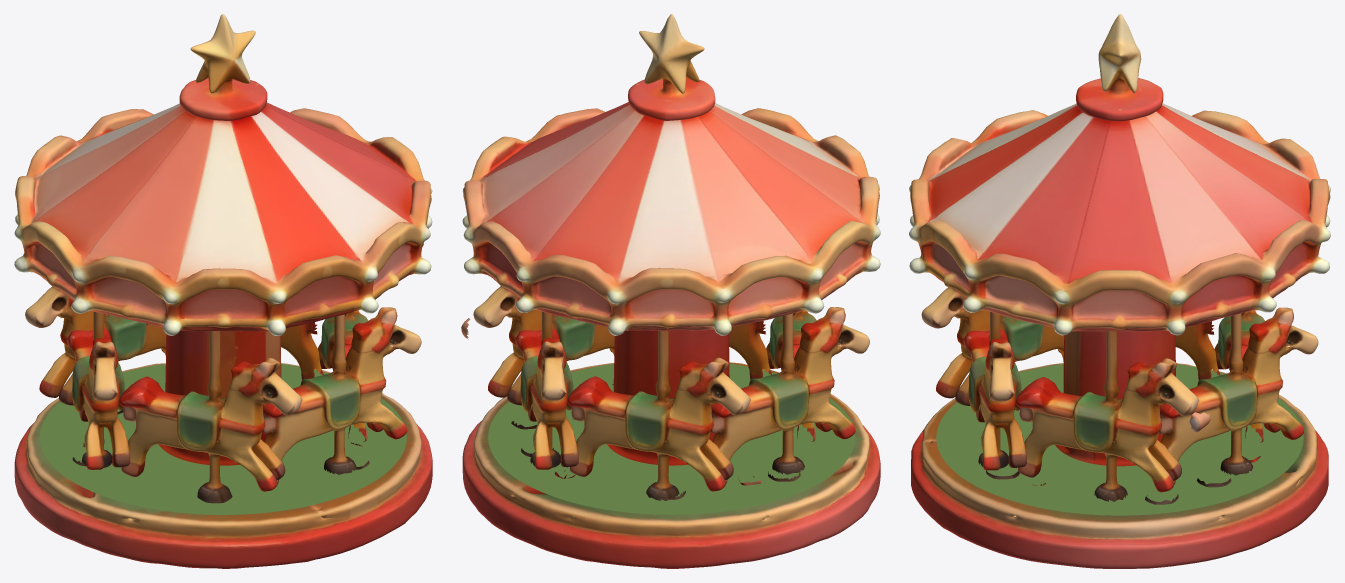
The model's file is xmas_carousel.glb.
3 renders of one model, left to right at view 1: azimuth 30°, elevation 25°; view 2: azimuth 150°, elevation 25°; view 3: azimuth 270°, elevation 25°, orthographic.
Visible parts, largest first — view 1: mesh_q; view 2: mesh_q; view 3: mesh_q.
Boxes of the visible parts, x1,y1,x2,y2 form: mesh_q: (14,14,432,568); mesh_q: (461,14,880,568); mesh_q: (909,14,1330,568).
Bounding box in the file's own units: 79.18 × 97.3 × 79.42.
Materials: 2 (1 with a texture image).
